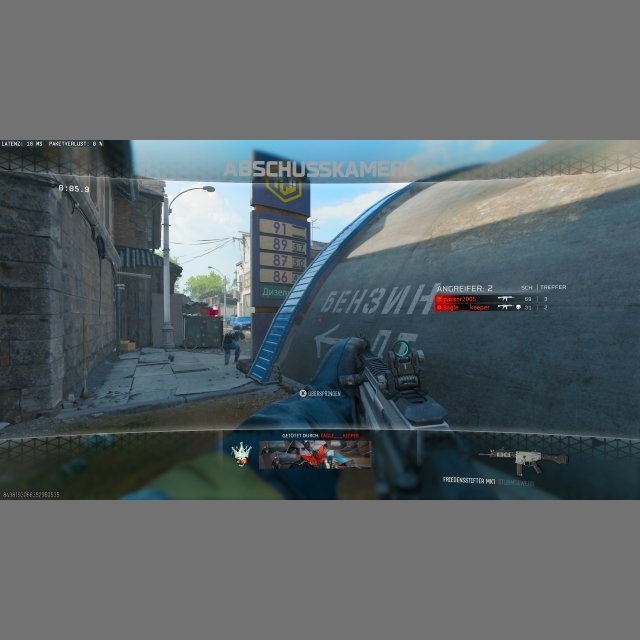player: (222, 326, 243, 366)
